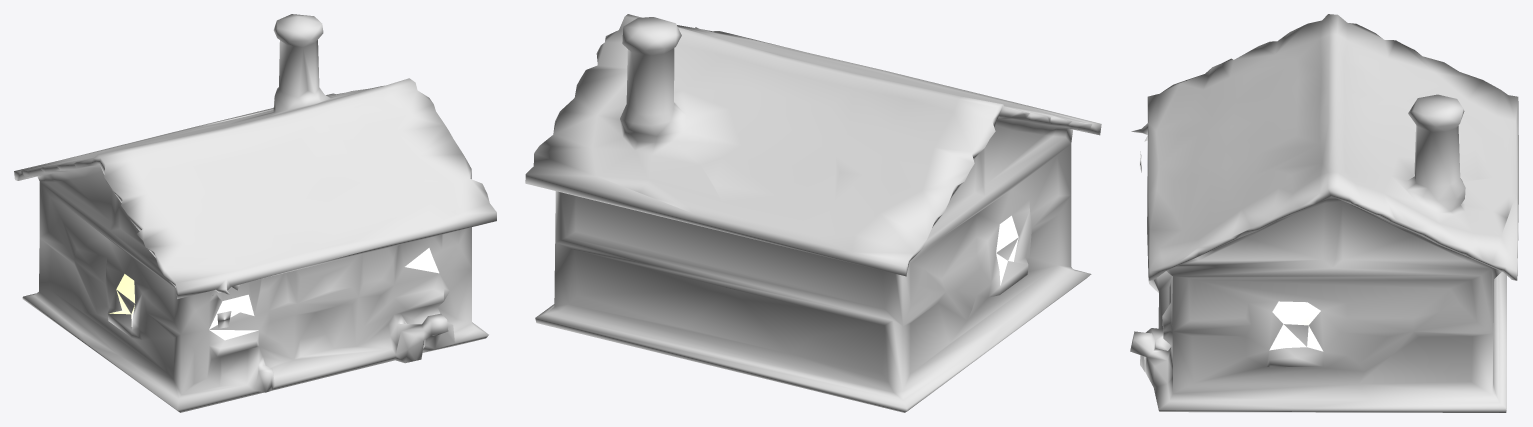
Rendered from tavern_far.glb.
3 renders of one model, left to right at view 1: azimuth 30°, elevation 25°; view 2: azimuth 150°, elevation 25°; view 3: azimuth 270°, elevation 25°, orthographic. The views are drawn at different scales.
Visible parts, largest first — view 1: tavern_far; view 2: tavern_far; view 3: tavern_far.
Part boxes in pixels (x1,y1,x2,y2): tavern_far: (14,14,496,412); tavern_far: (525,14,1101,412); tavern_far: (1130,14,1518,412).
Size of the model in its own units: 8.91 by 6.31 by 8.12.
